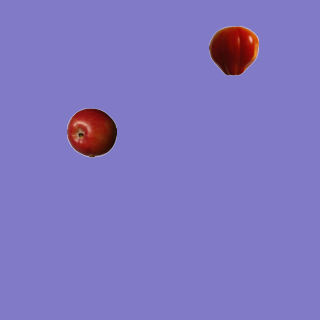Apple Braeburn: (66, 107, 116, 157)
Tomato 1: (208, 25, 258, 75)
